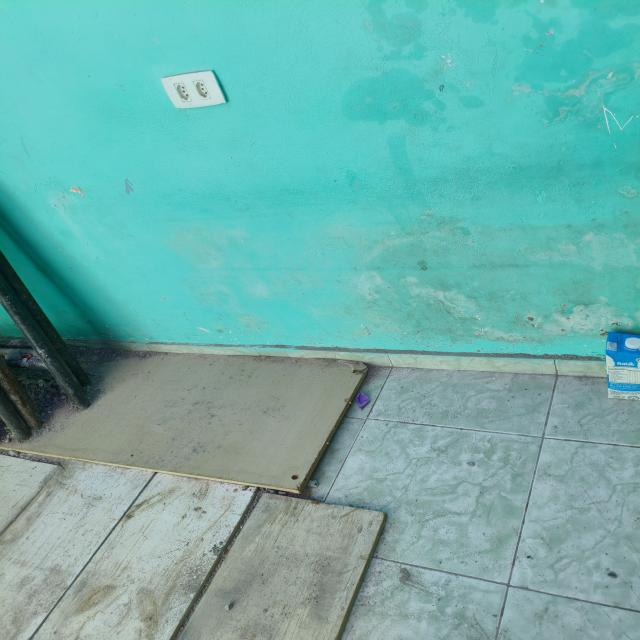Caixa de Leite: (600, 332, 636, 399)
